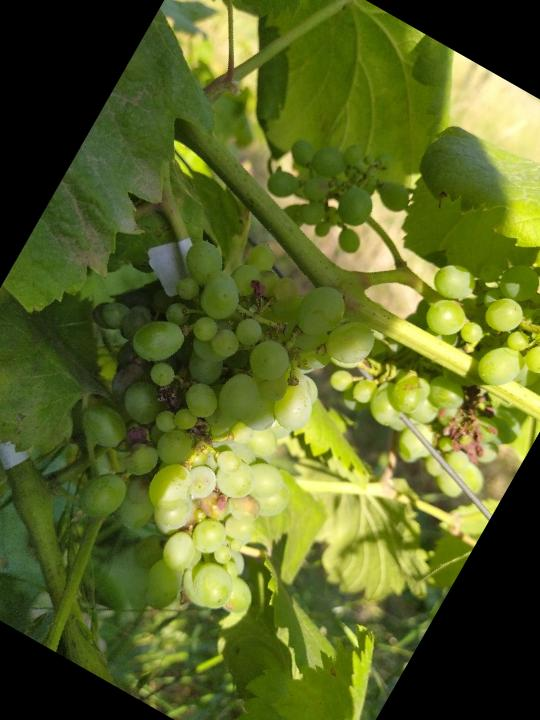grape: (0, 180, 413, 653), (305, 201, 540, 521), (250, 105, 428, 272)
